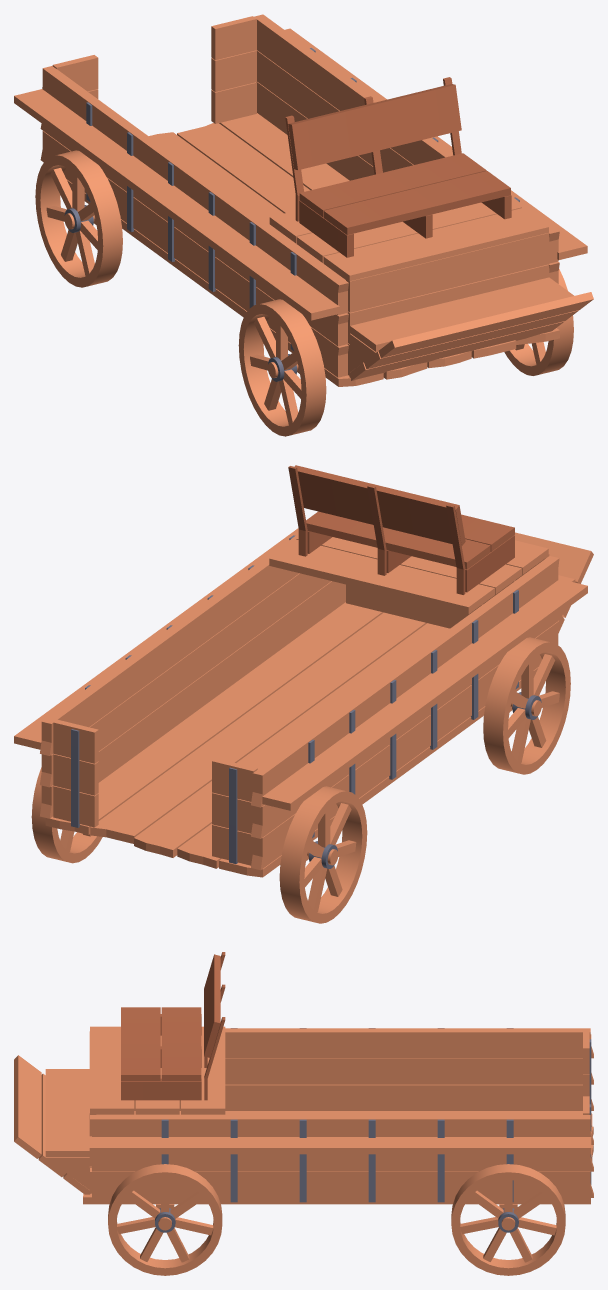
File: Carruaje.fbx
3 renders of one model, top to bottom at view 1: azimuth 30°, elevation 25°; view 2: azimuth 150°, elevation 25°; view 3: azimuth 270°, elevation 25°, orthographic. The views are drawn at different scales.
Parts seen in each view (by area): view 1: Carruaje; view 2: Carruaje; view 3: Carruaje.
Part boxes in pixels (x1=…): Carruaje: x1=14, y1=14, x2=593, y2=436; Carruaje: x1=14, y1=465, x2=593, y2=923; Carruaje: x1=14, y1=952, x2=593, y2=1275.
Bounding box in the file's own units: 119 × 114 × 257.
